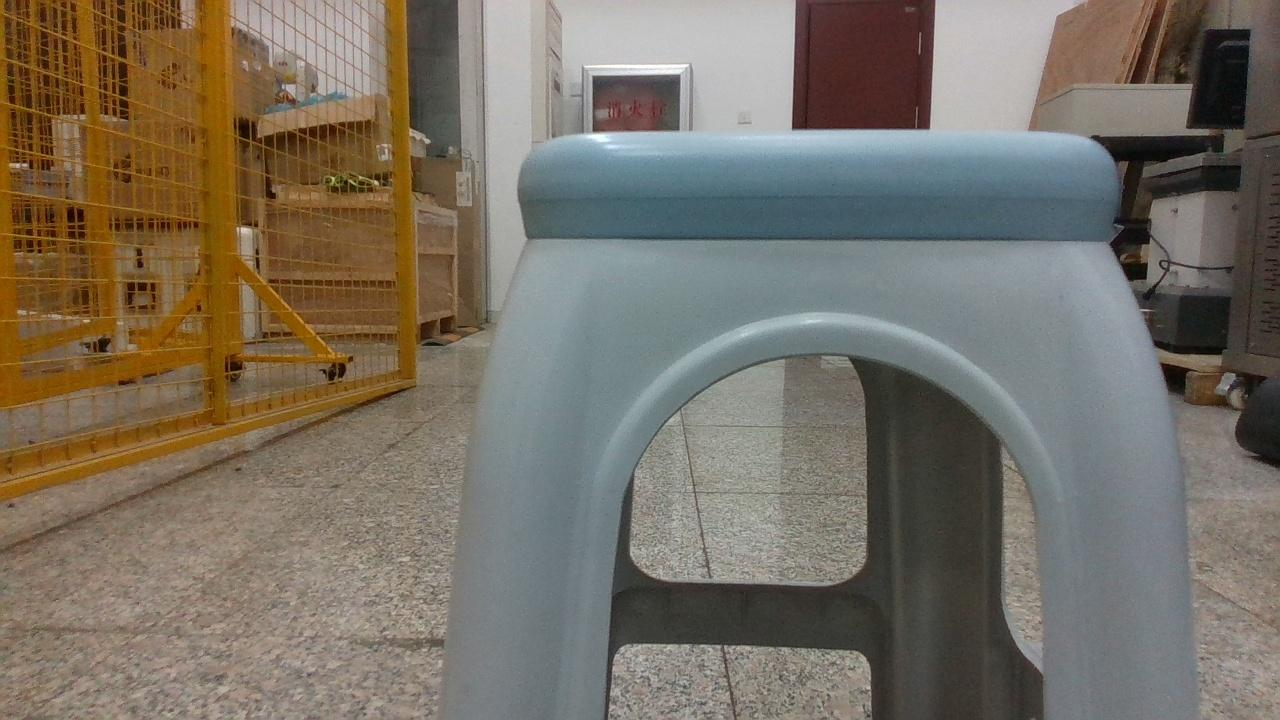stool: (442, 130, 1198, 718)
